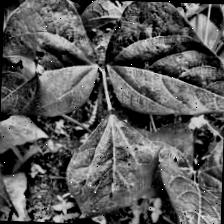ALS: (118, 7, 224, 113), (0, 0, 89, 122), (63, 130, 156, 224), (150, 127, 223, 224)
